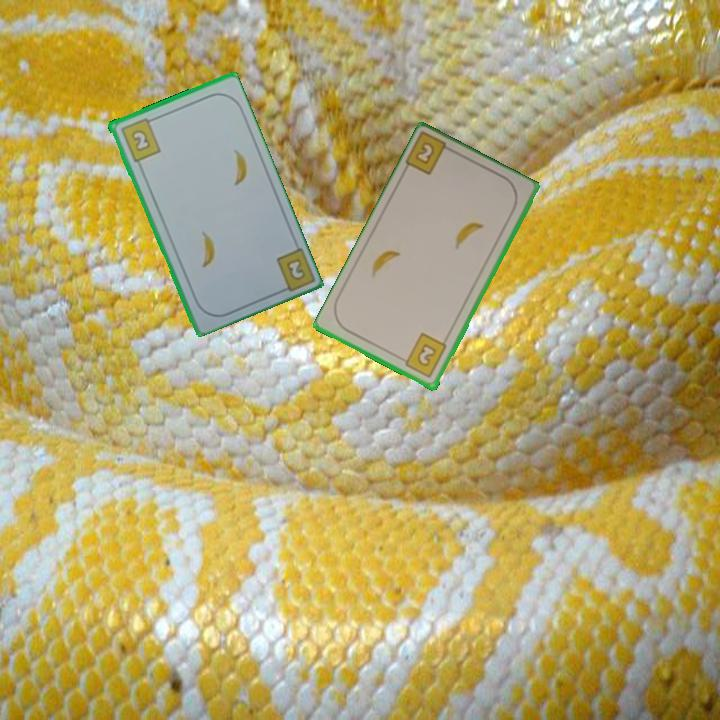2b: (397, 330, 450, 381), (402, 131, 458, 178), (272, 243, 316, 296), (117, 114, 163, 164)
